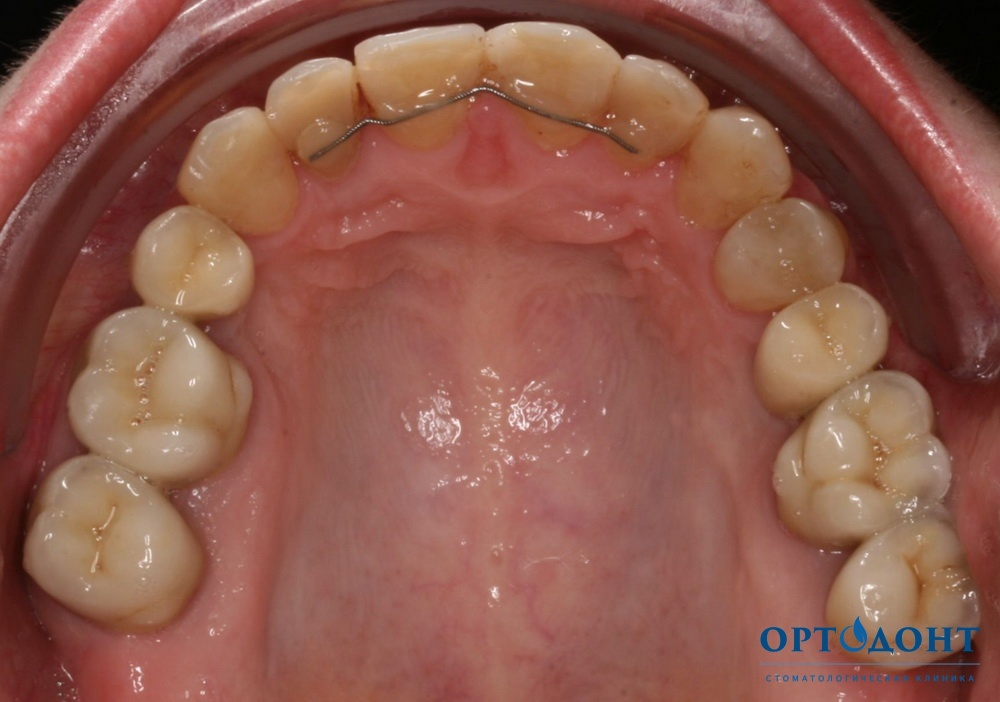UL1BC_healthy: (730, 205, 840, 294)
UL1M_decay: (774, 391, 945, 519)
UL2BC_healthy: (764, 288, 879, 393)
UL2M_decay: (838, 533, 978, 621)
ULCI_decay: (492, 18, 610, 150)
ULC_healthy: (684, 114, 785, 216)
ULLI_decay: (617, 59, 694, 168)
UR1BC_healthy: (144, 212, 258, 321)
UR1M_healthy: (39, 474, 202, 629)
UR2BC_healthy: (79, 314, 254, 479)
URCI_decay: (363, 28, 483, 149)
URC_healthy: (187, 119, 302, 233)
URLI_decay: (280, 55, 362, 160)
